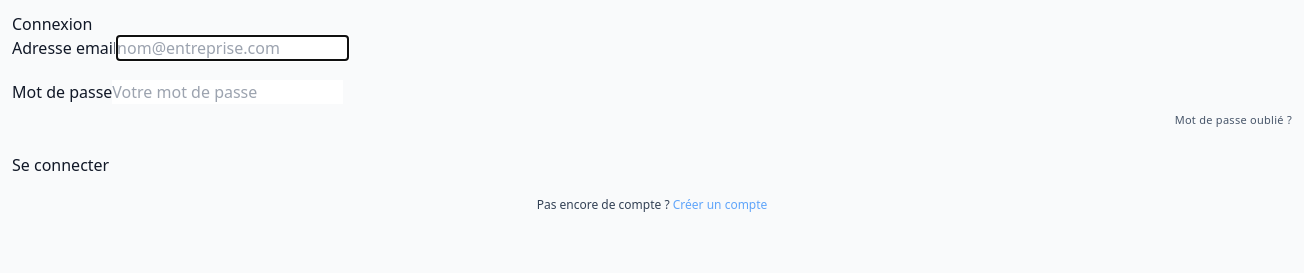
it: LoginPage › erreur de connexion › devrait afficher le message d erreur retourné par le service
Type "wrong@crm.io" into the field named "adresse email" at (233, 48), box [117, 36, 348, 60]
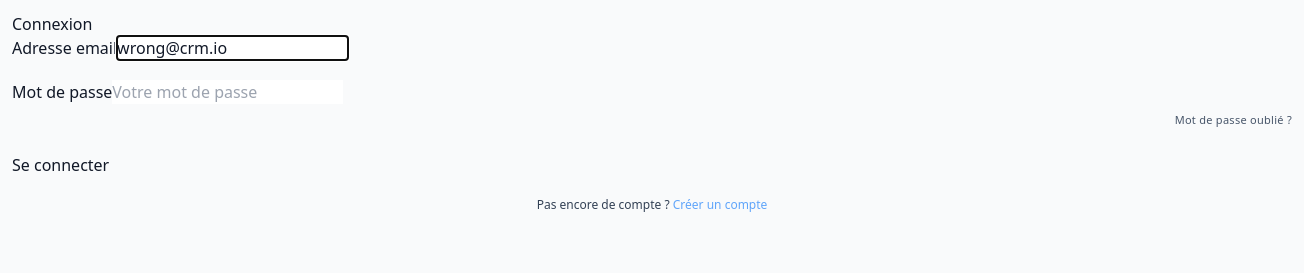
Type "Wrongpass1" into the password field labelled "Votre mot de passe" at (228, 92), box [112, 80, 343, 104]
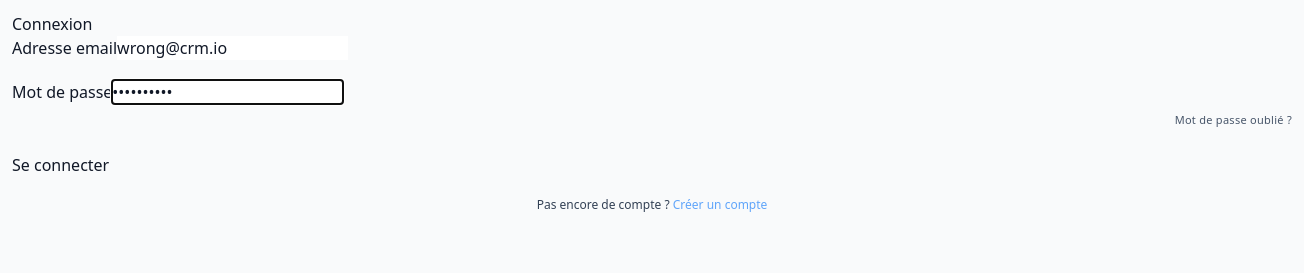
Click the button "Se connecter" at (61, 164), box [12, 152, 109, 176]
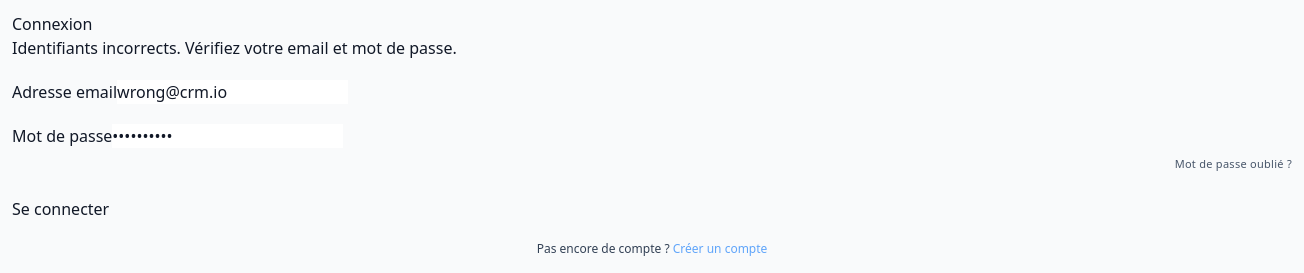
Expected: the message shows "Identifiants incorrects", [12, 37, 457, 59]
